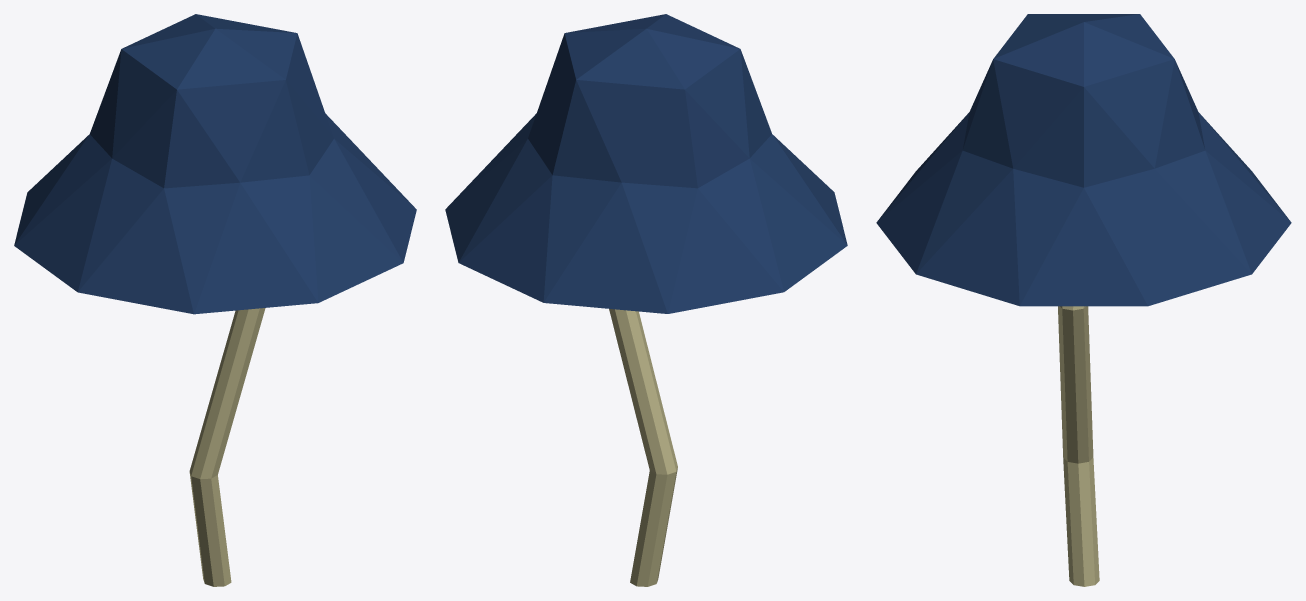
File: hat_mushroom_tall_blue.fbx
3 views of the same model, side by side, from view 1: azimuth 30°, elevation 25°; view 2: azimuth 150°, elevation 25°; view 3: azimuth 270°, elevation 25° (orthographic).
Parts seen in each view (by area): view 1: hat_mushroom_tall_blue; view 2: hat_mushroom_tall_blue; view 3: hat_mushroom_tall_blue.
Part boxes in pixels (x1,y1,x2,y2): hat_mushroom_tall_blue: [14, 14, 416, 586]; hat_mushroom_tall_blue: [445, 14, 847, 586]; hat_mushroom_tall_blue: [876, 14, 1291, 586].
Size of the model in its own units: 89.41 by 139 by 94.01.
